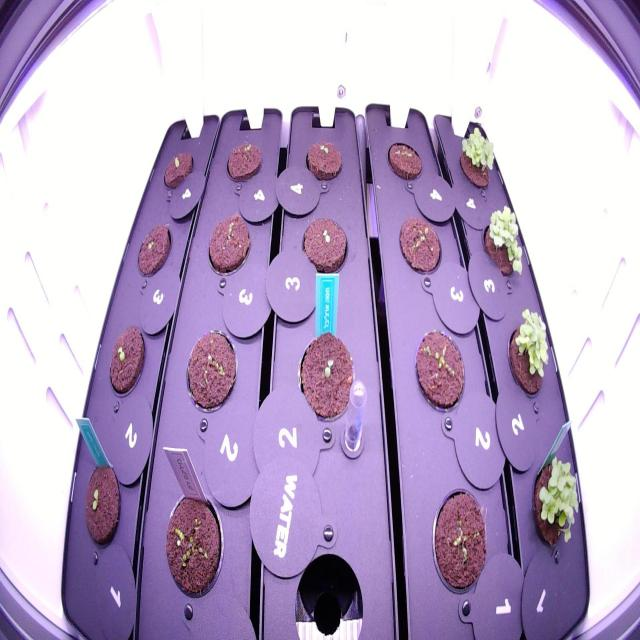germination: (159, 479, 235, 608), (289, 324, 363, 430), (529, 442, 586, 572), (76, 450, 131, 558), (409, 322, 468, 422), (502, 303, 554, 407), (479, 197, 528, 289), (294, 210, 353, 286), (393, 207, 447, 290), (103, 315, 150, 406), (131, 215, 175, 290), (454, 121, 499, 193), (300, 134, 348, 197), (384, 130, 424, 190), (158, 140, 198, 198)
pod: (422, 473, 498, 611), (179, 319, 243, 417), (201, 206, 255, 285), (220, 134, 272, 197)
